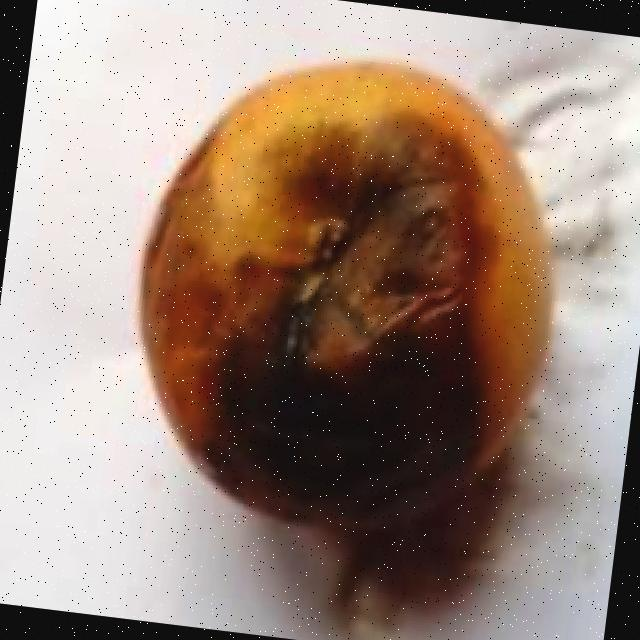rotten apple: (55, 10, 620, 640)
